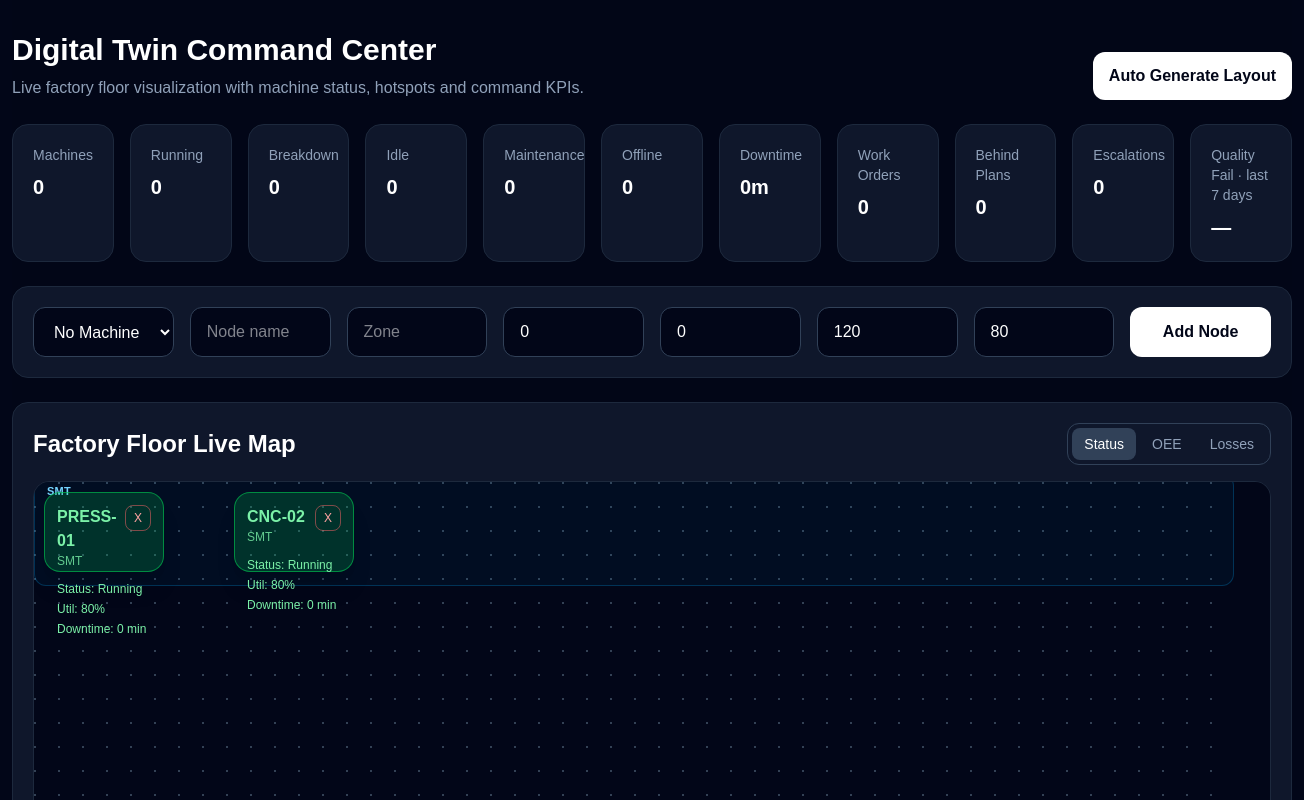
it: DigitalTwinSection loss overlay › labels a machine's loss in good units, never a currency, without a unit value
This screenshot has width=1304, height=800.
Click the button "Losses". click: (1232, 444)
box: [1198,428,1266,460]
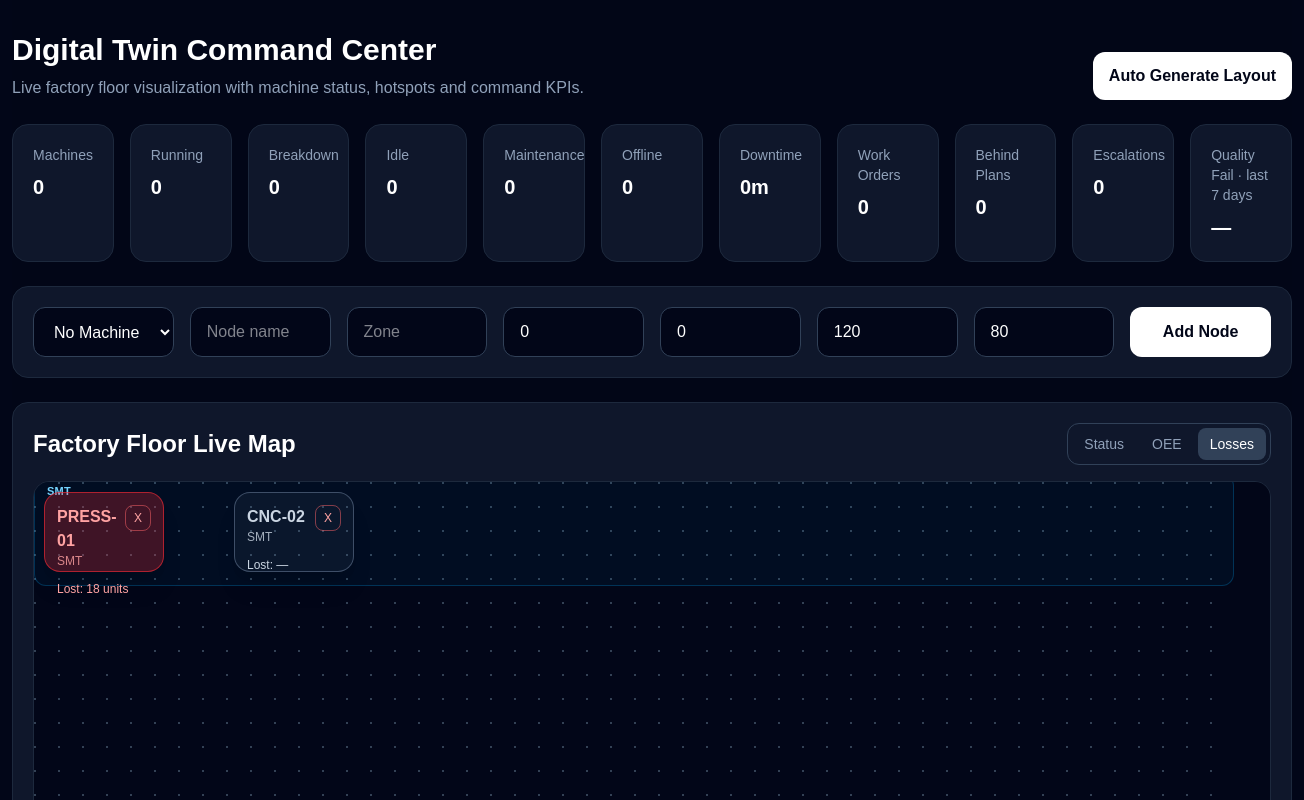
Check: the text "Lost: 18 units" is shown, box [57,582,128,596]
Check: the text "Lost: —" is shown, box [247,558,288,572]
